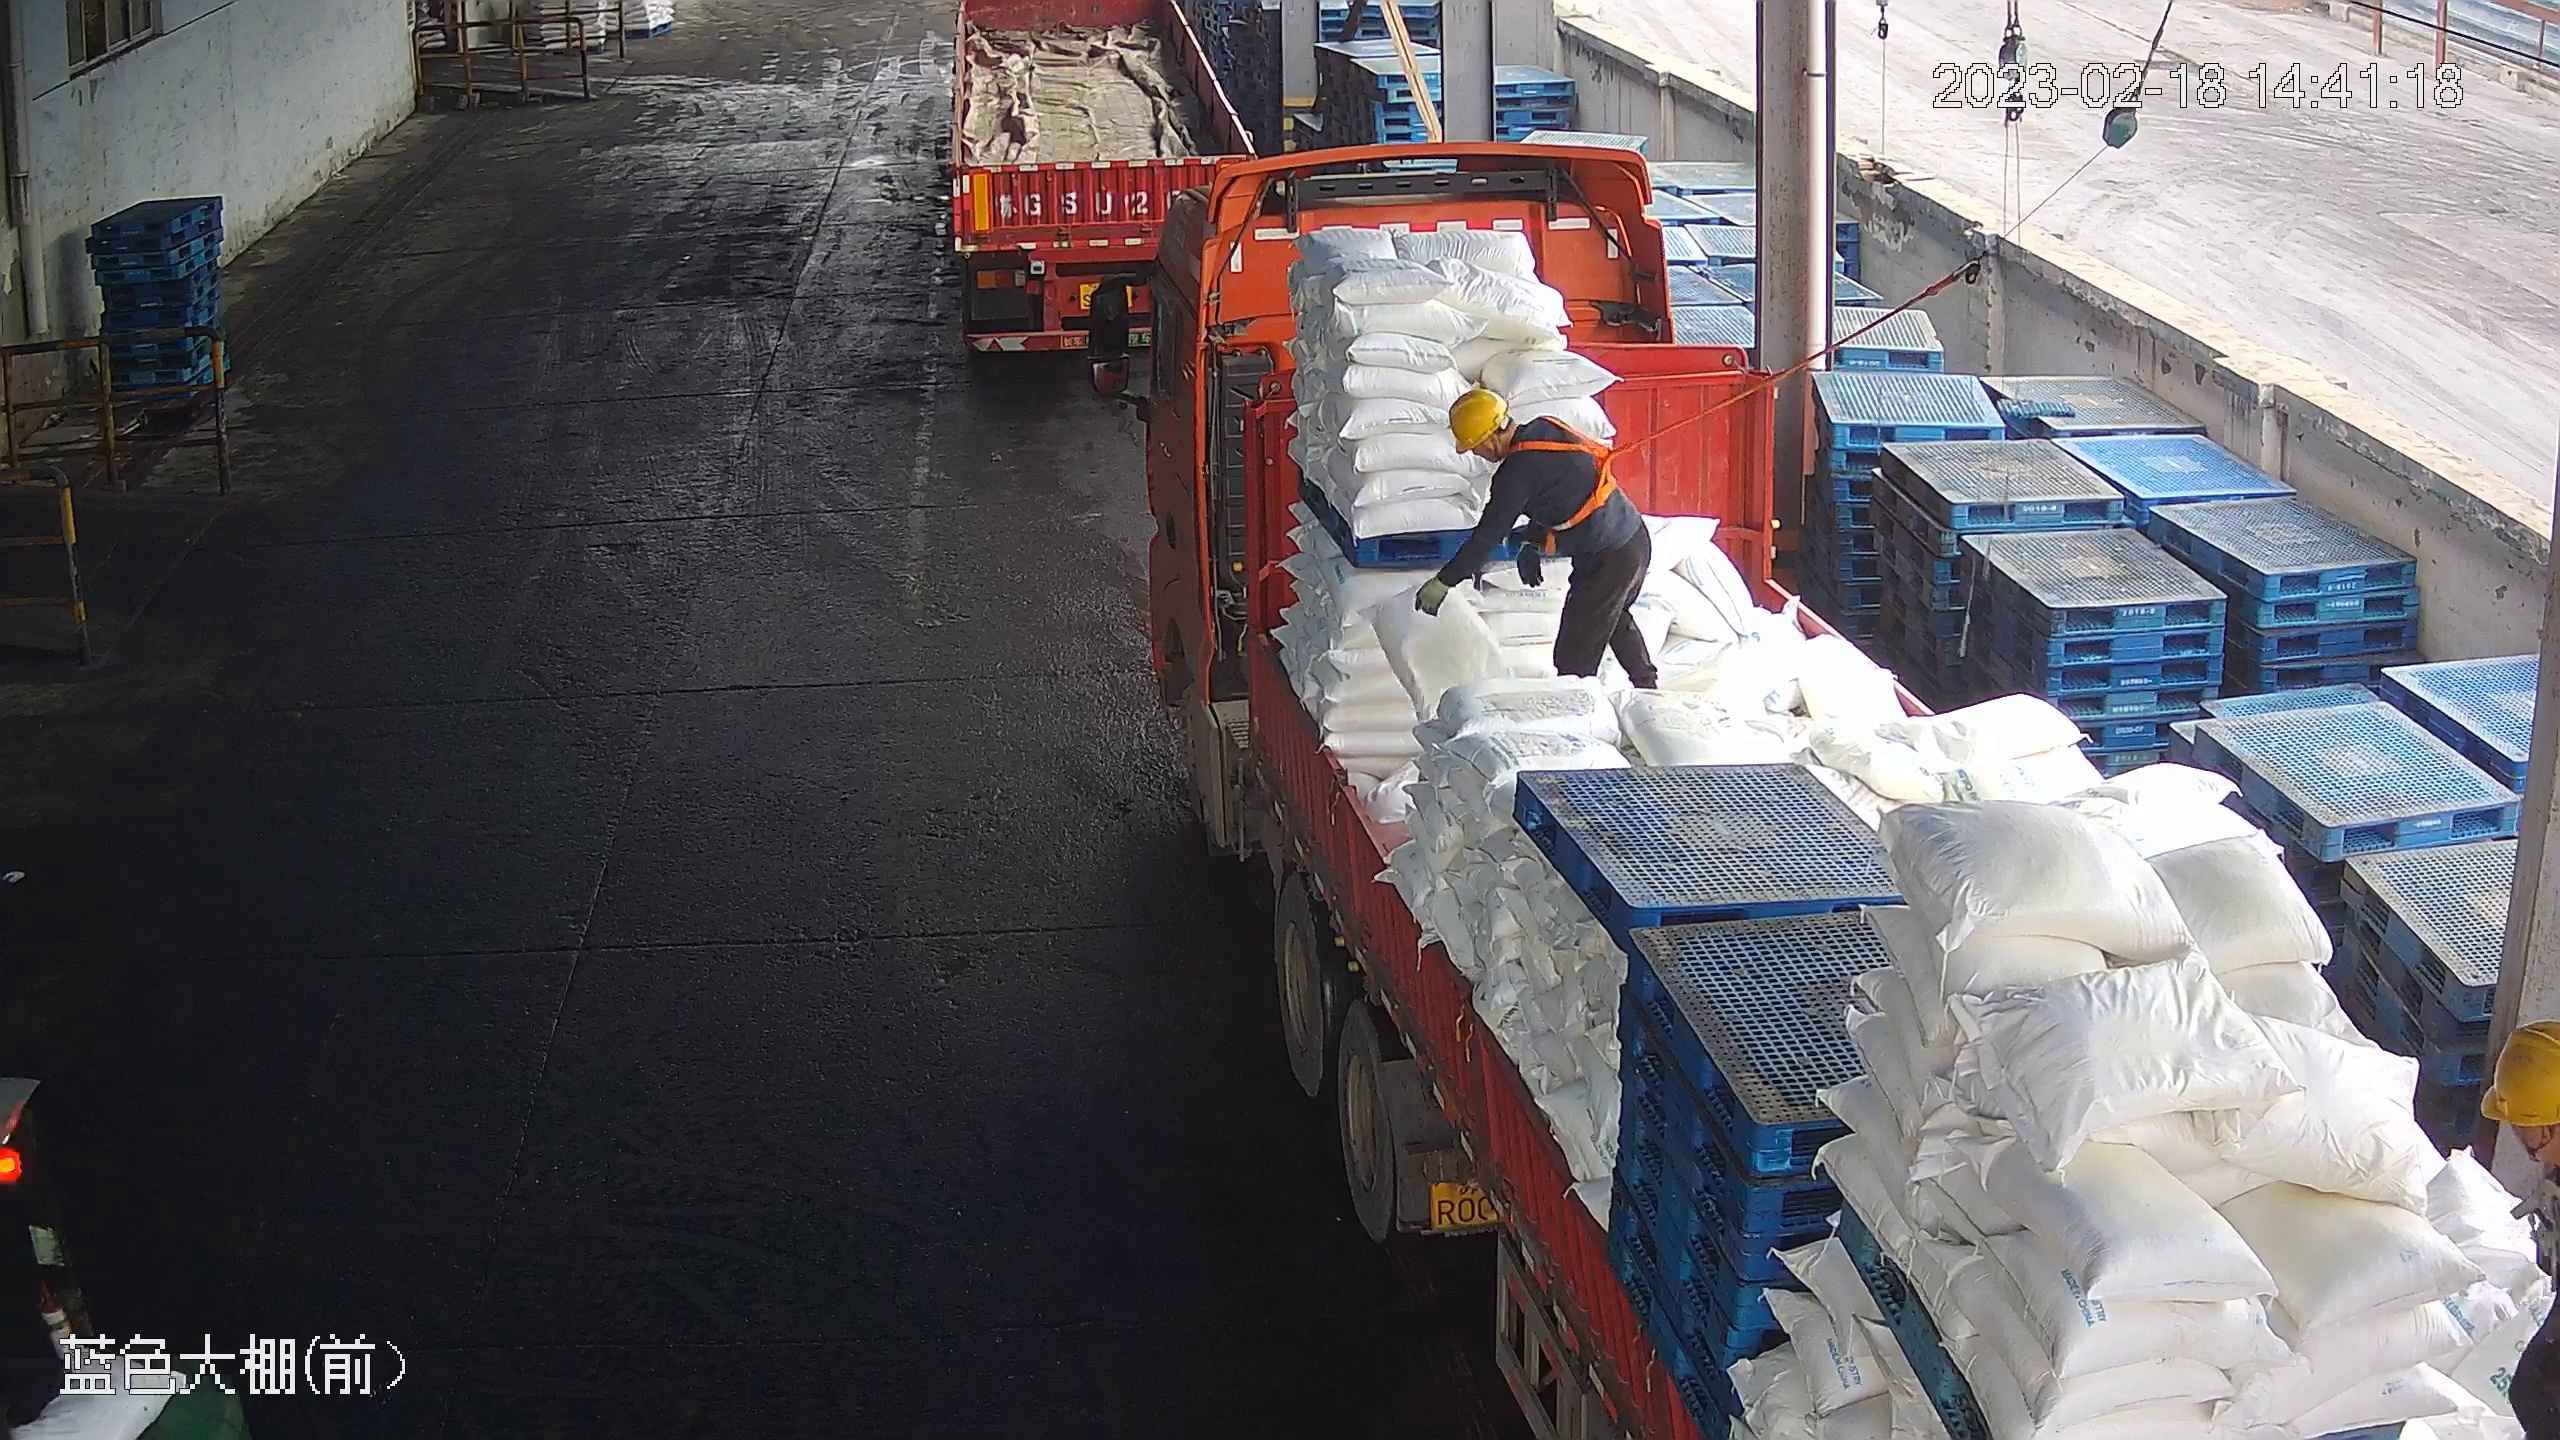belt: (1514, 413, 1631, 532)
head: (1448, 385, 1589, 504)
helmet: (2476, 1015, 2560, 1127), (1446, 385, 1510, 454)
people: (1421, 387, 1662, 695)
truck: (1074, 141, 2553, 1439), (927, 4, 1257, 362)
